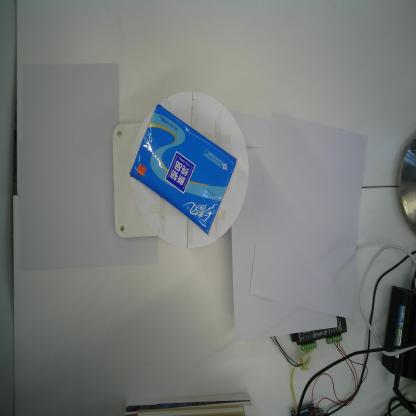Tissue: (127, 103, 238, 238)
